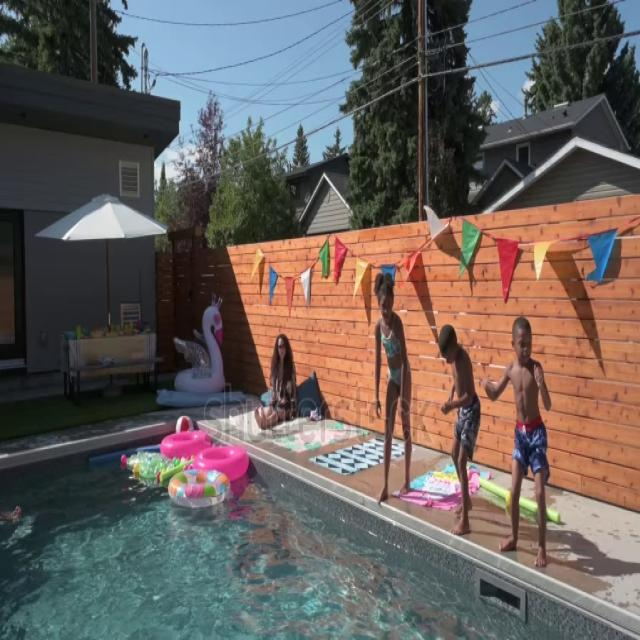adult: (254, 333, 297, 431)
child: (483, 317, 551, 568), (439, 324, 482, 538), (374, 272, 412, 504)
